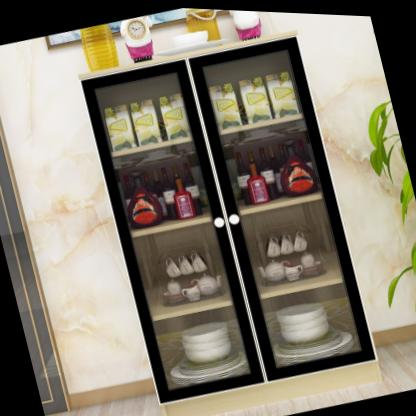Cupboard: (80, 29, 383, 416)
